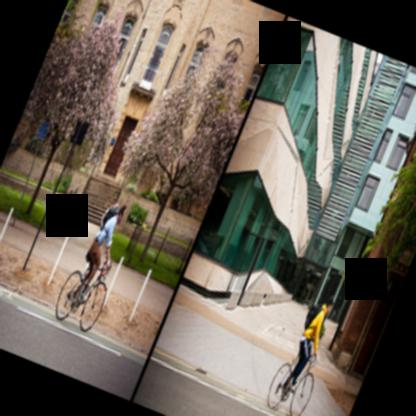backpack: (99, 201, 119, 229), (304, 303, 322, 330)
